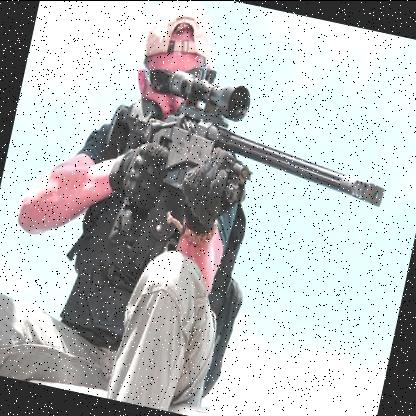rifle: (87, 59, 409, 284)
